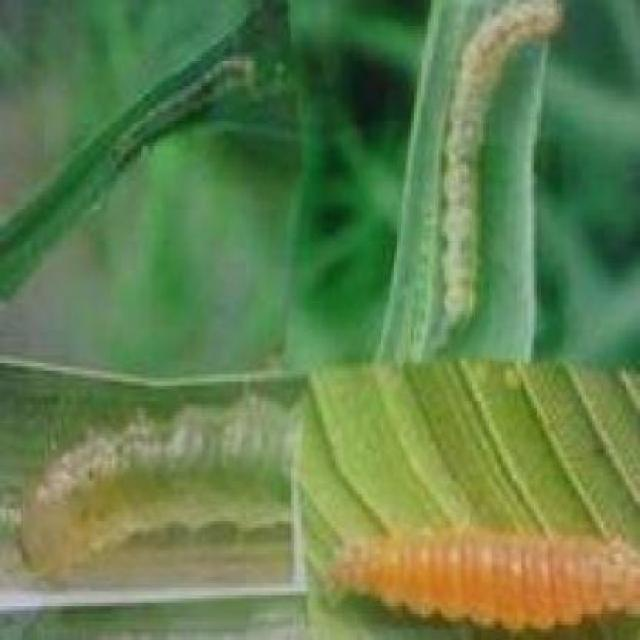leaf-folder: (396, 2, 558, 360), (34, 405, 294, 583), (326, 516, 640, 636), (109, 40, 260, 174)
